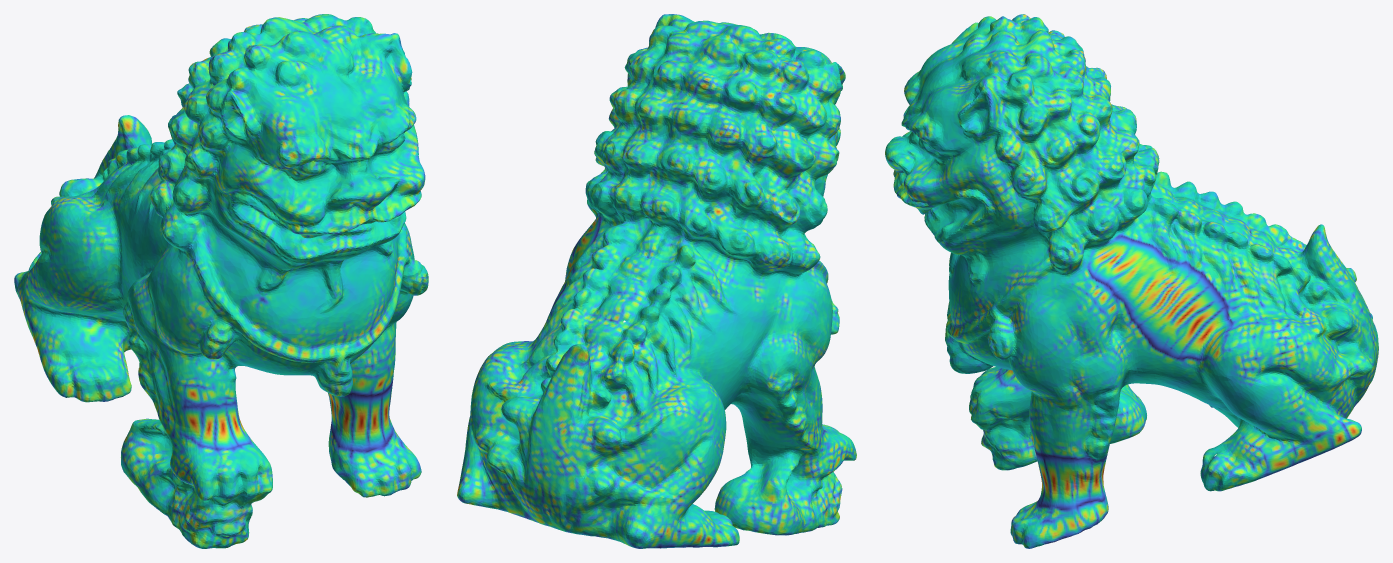
The model's file is gen3.glb.
The picture shows the model from 3 angles, left to right: view 1: azimuth 30°, elevation 25°; view 2: azimuth 150°, elevation 25°; view 3: azimuth 270°, elevation 25°; orthographic projection. The views are drawn at different scales.
Parts seen in each view (by area): view 1: Node; view 2: Node; view 3: Node.
Part boxes in pixels (bbox=[...]): Node: bbox=[14, 14, 428, 548]; Node: bbox=[457, 14, 856, 548]; Node: bbox=[885, 14, 1378, 548].
Size of the model in its own units: 61.63 by 113 by 109.
Materials: 1 (1 with a texture image).
